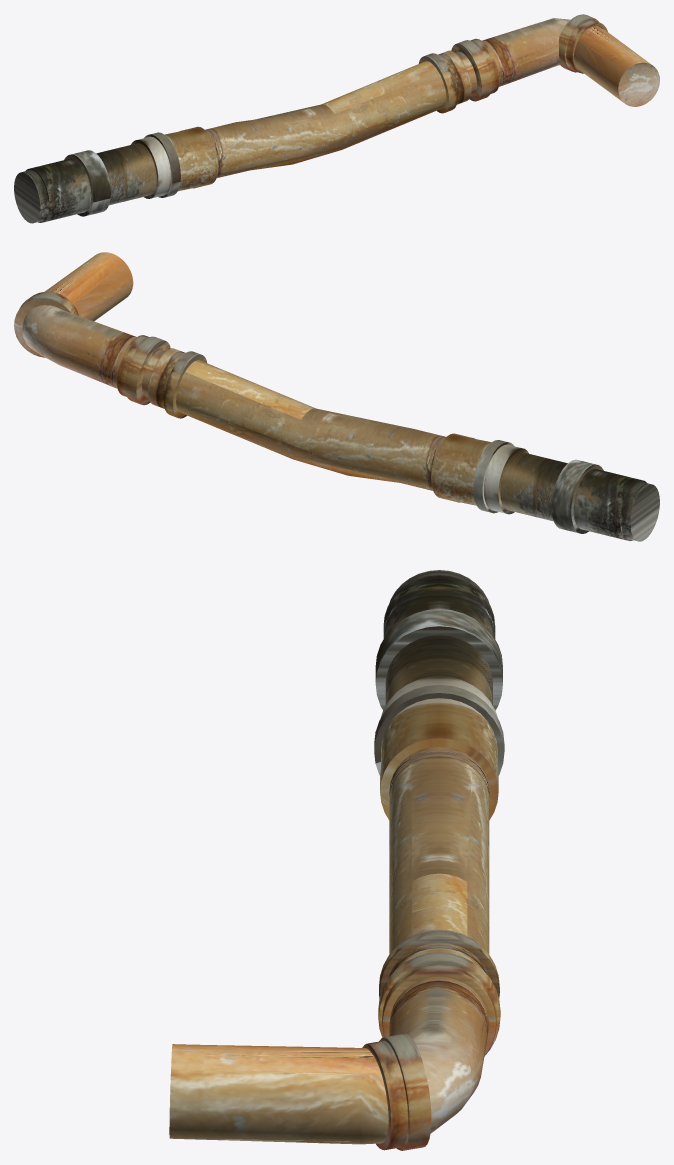
File: SHORT S. METAL .fbx
3 renders of one model, top to bottom at view 1: azimuth 30°, elevation 25°; view 2: azimuth 150°, elevation 25°; view 3: azimuth 270°, elevation 25°, orthographic. The views are drawn at different scales.
Visible parts, largest first — view 1: SHORT S. METAL .001; view 2: SHORT S. METAL .001; view 3: SHORT S. METAL .001.
Part boxes in pixels (bbox=[...]): SHORT S. METAL .001: bbox=[14, 14, 659, 223]; SHORT S. METAL .001: bbox=[14, 252, 659, 541]; SHORT S. METAL .001: bbox=[169, 570, 504, 1150].
Size of the model in its own units: 8.84 by 1.24 by 2.25.
